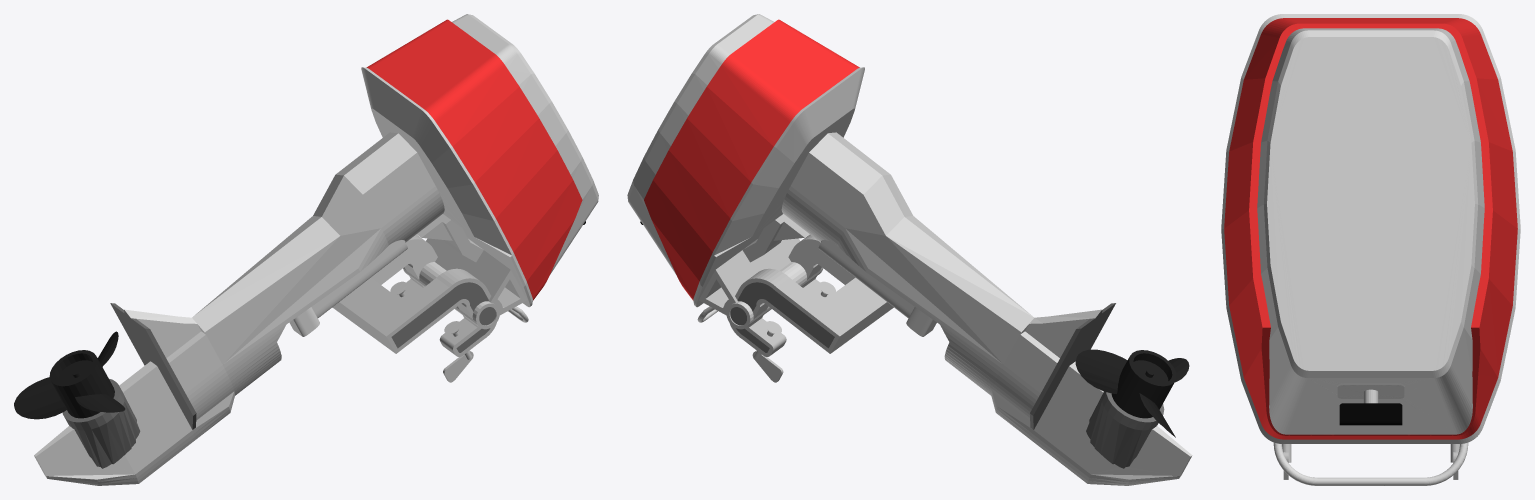
File: BassBoat-OutboardMotor.obj
3 renders of one model, left to right at view 1: azimuth 30°, elevation 25°; view 2: azimuth 150°, elevation 25°; view 3: azimuth 270°, elevation 25°, orthographic. The views are drawn at different scales.
Parts seen in each view (by area): view 1: OutboardMotor; view 2: OutboardMotor; view 3: OutboardMotor.
Boxes of the visible parts, left/top/right/bottom form: OutboardMotor: left=14, top=14, right=598, bottom=485; OutboardMotor: left=627, top=14, right=1192, bottom=485; OutboardMotor: left=1221, top=14, right=1520, bottom=485.
Bounding box in the file's own units: 0.4532 × 0.2941 × 0.1373.
